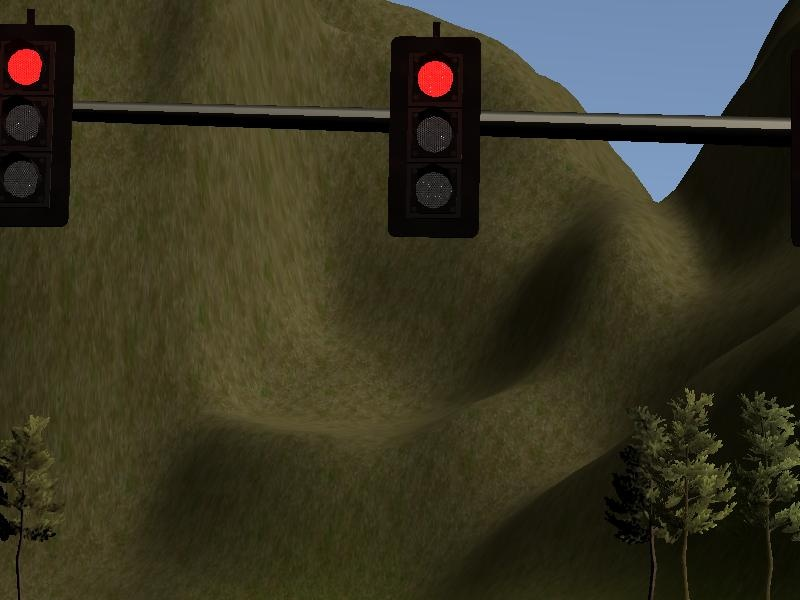red: (387, 31, 483, 246), (1, 26, 80, 227)
